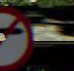Don't turn right: (0, 4, 34, 69)
